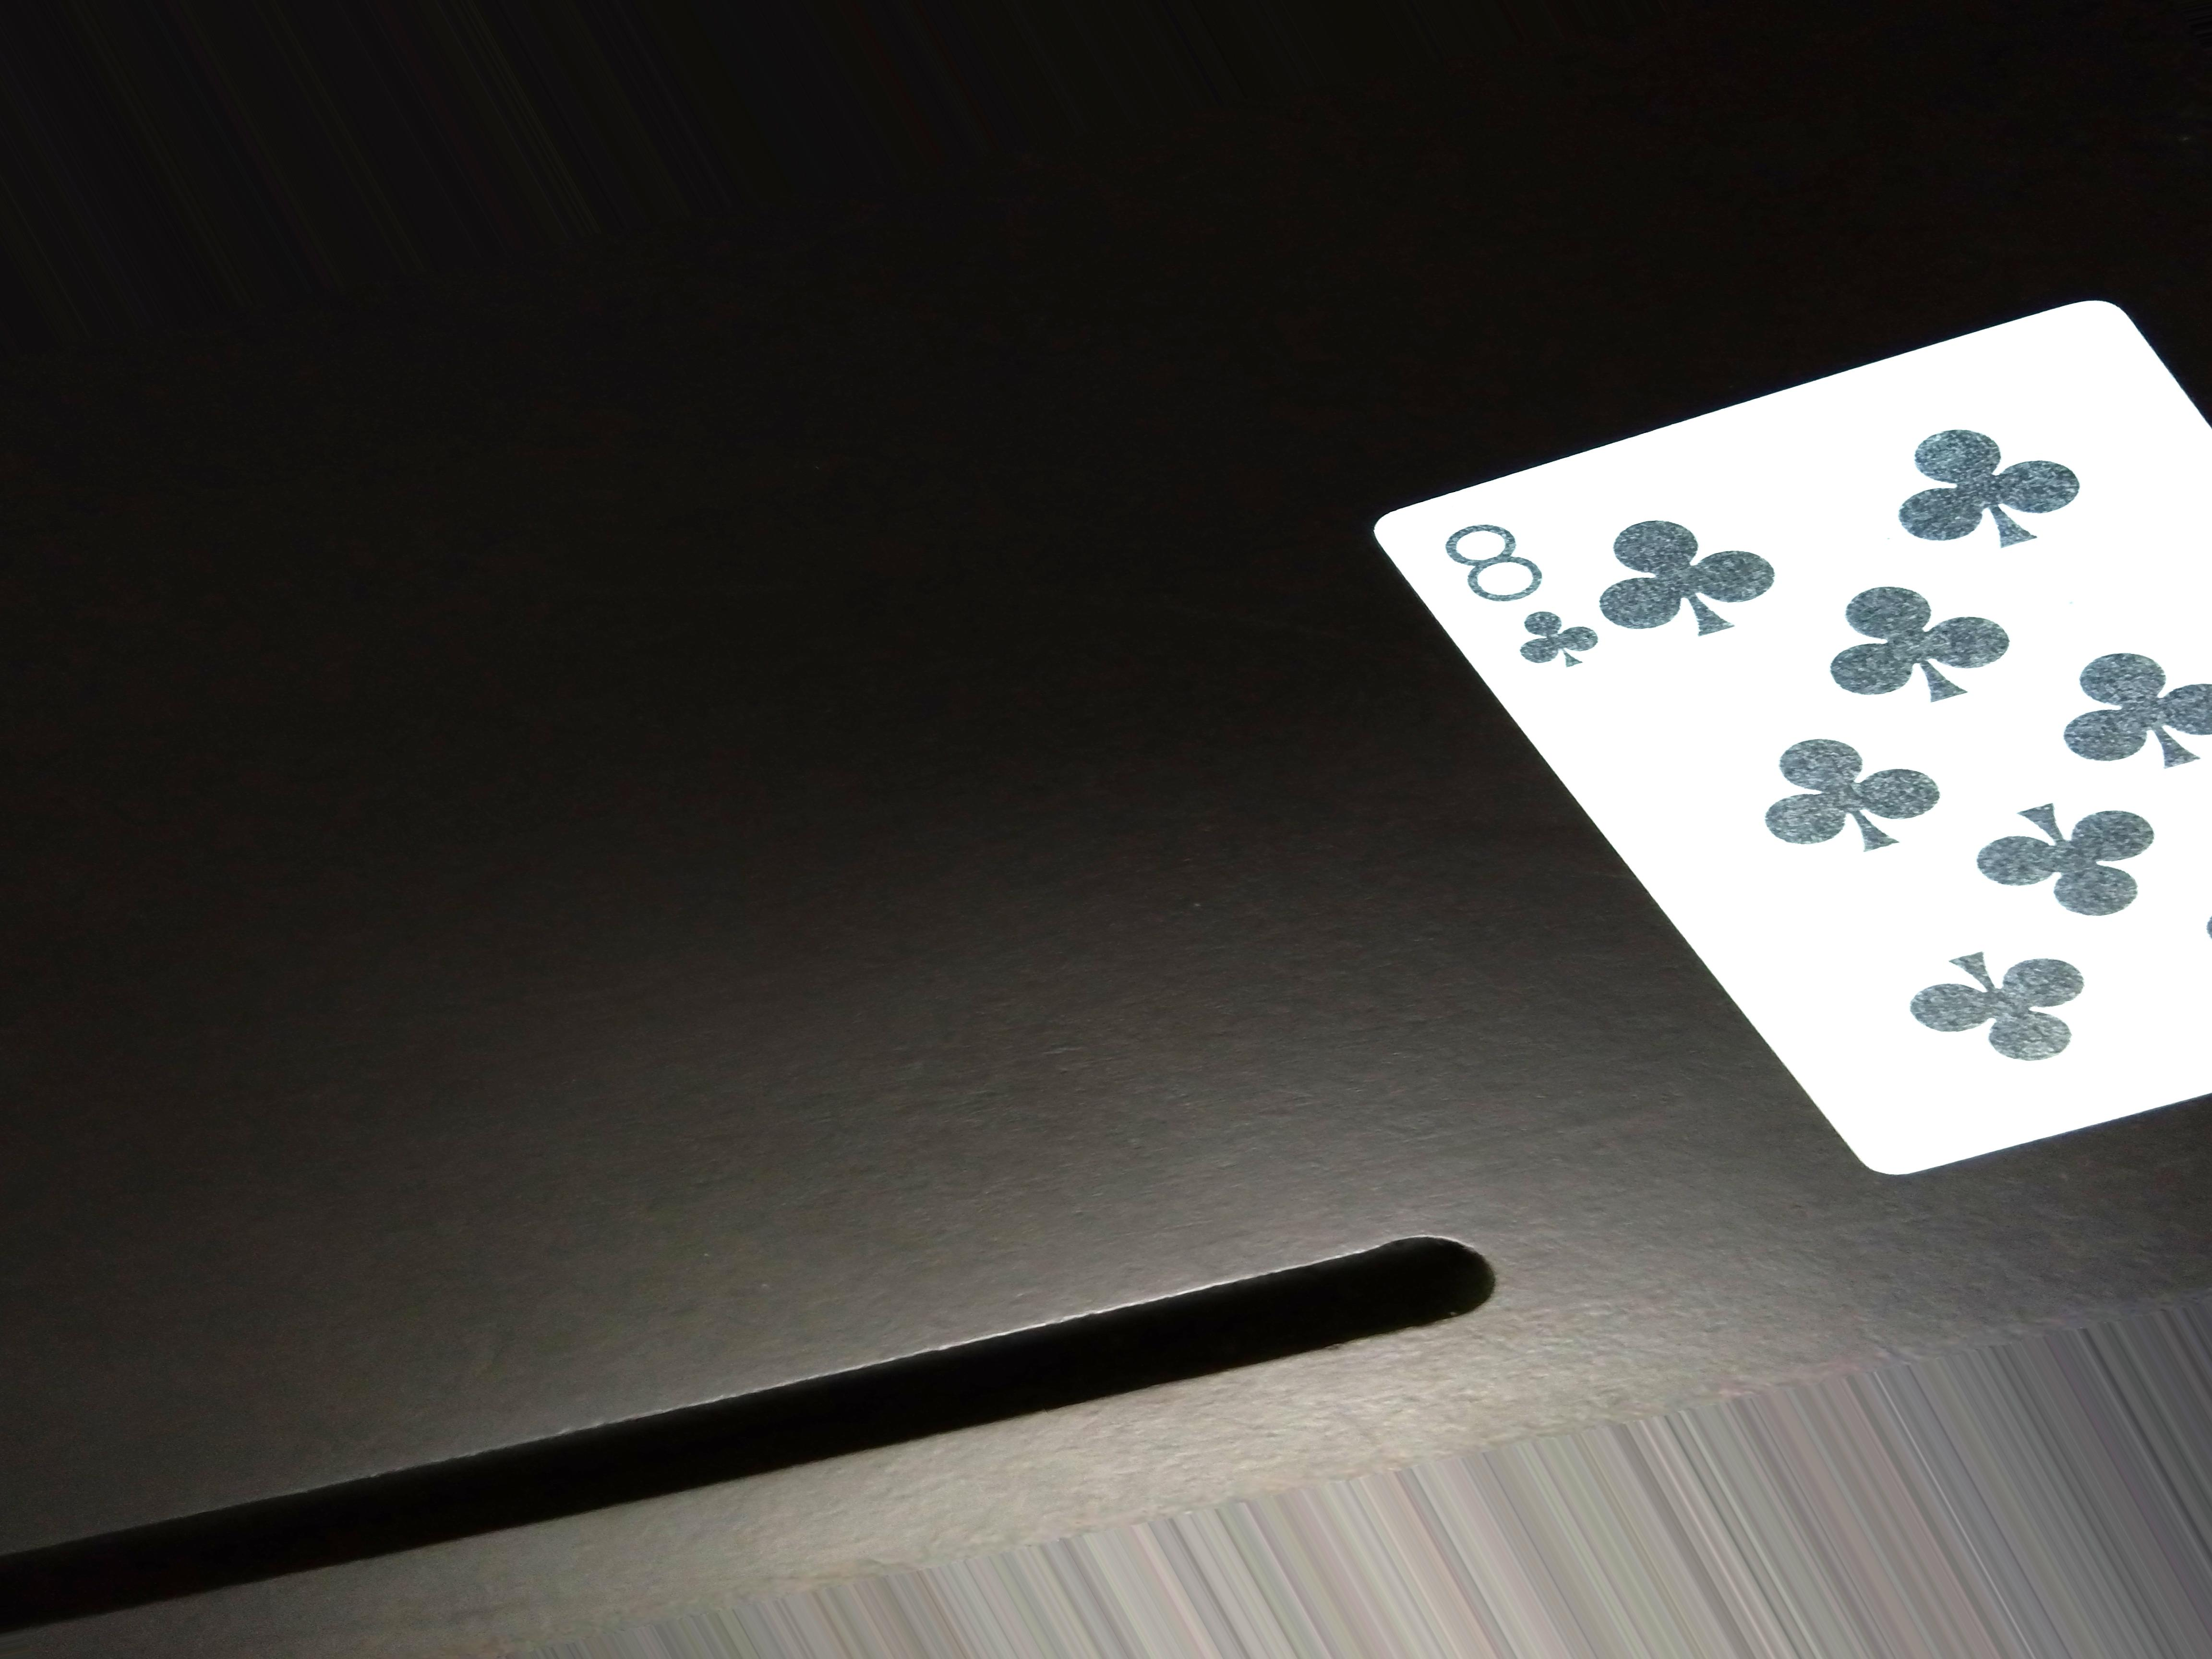8C: (1414, 512, 1625, 690)
